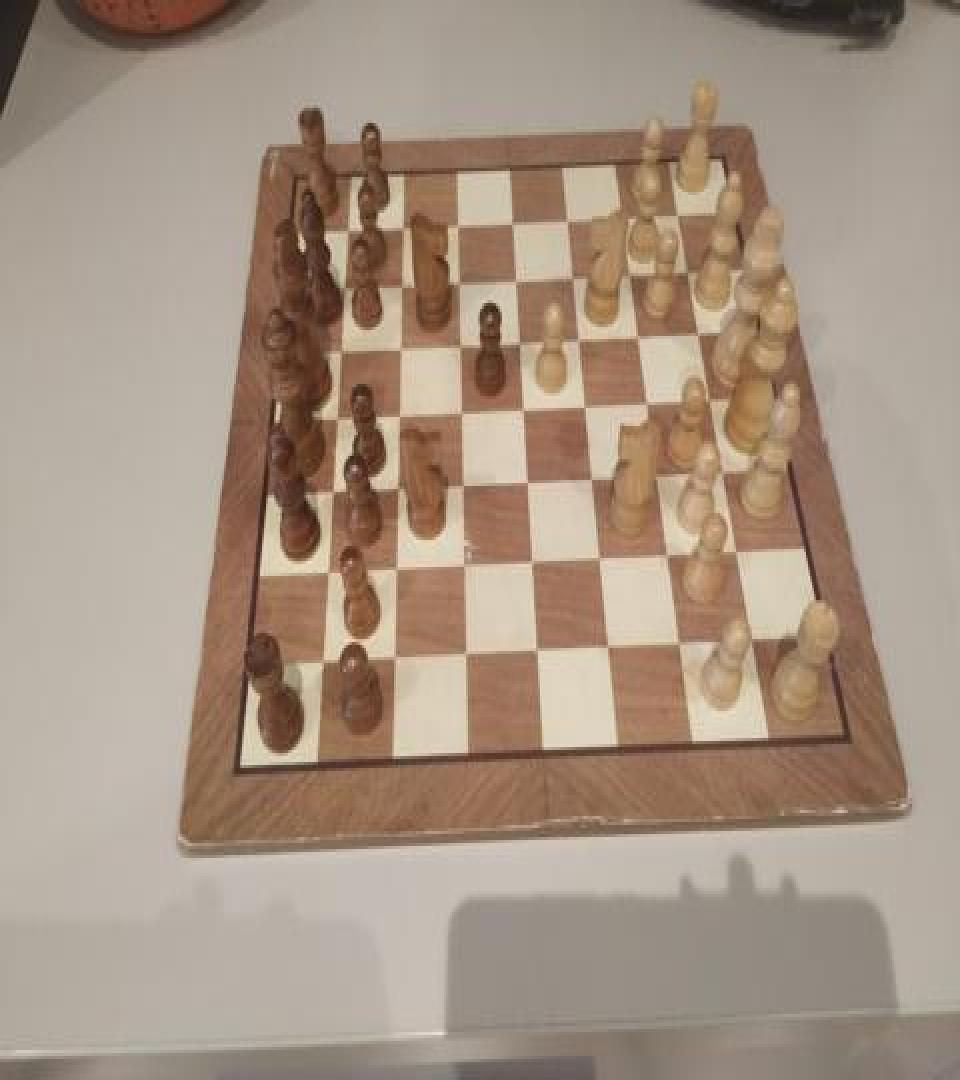xcorner: (519, 466, 539, 497), (326, 400, 346, 431), (389, 397, 409, 428), (702, 382, 722, 413), (614, 199, 634, 230), (311, 648, 331, 678), (384, 644, 404, 674), (457, 640, 477, 670), (529, 636, 549, 666), (601, 633, 621, 663), (673, 628, 693, 658), (744, 624, 764, 654), (317, 558, 337, 588), (386, 554, 406, 584), (524, 548, 544, 578), (593, 543, 613, 573), (661, 540, 681, 570), (729, 537, 749, 567), (322, 476, 342, 506), (388, 472, 408, 502), (454, 470, 474, 500), (585, 462, 605, 492), (650, 459, 670, 489), (715, 456, 735, 486), (452, 394, 472, 424), (515, 392, 535, 422), (577, 388, 597, 418), (640, 386, 660, 416), (330, 332, 350, 362), (390, 330, 410, 360), (451, 327, 471, 357), (511, 324, 531, 354), (571, 321, 591, 351), (631, 318, 651, 348), (690, 316, 710, 346), (333, 268, 353, 298), (392, 267, 412, 297), (450, 264, 470, 294), (507, 261, 527, 291), (565, 260, 585, 290), (622, 256, 642, 286), (679, 254, 699, 284), (337, 212, 357, 242), (393, 208, 413, 238), (448, 207, 468, 237), (504, 204, 524, 234), (559, 202, 579, 232), (669, 196, 689, 226), (455, 551, 475, 580)
